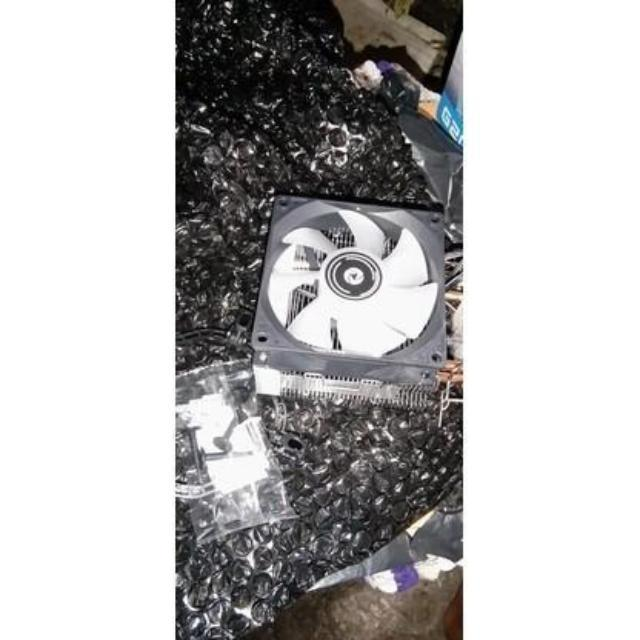CPU_Fan: (254, 192, 463, 410)
